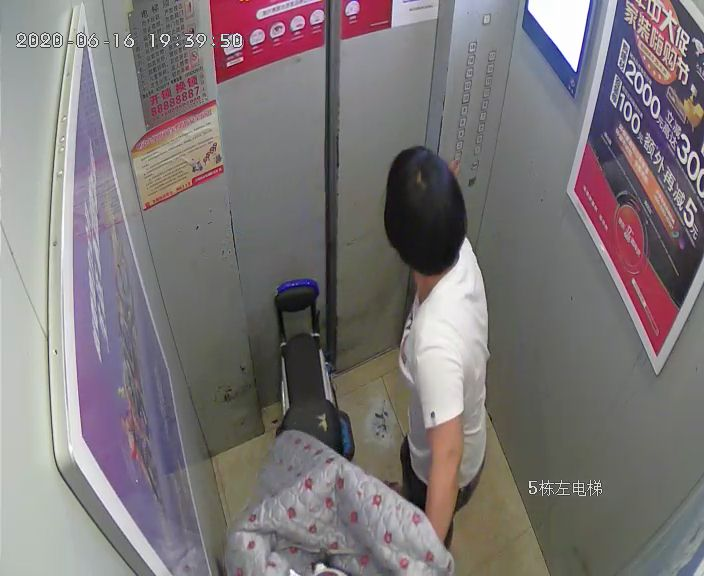Electric-bicycle: (235, 276, 431, 576)
